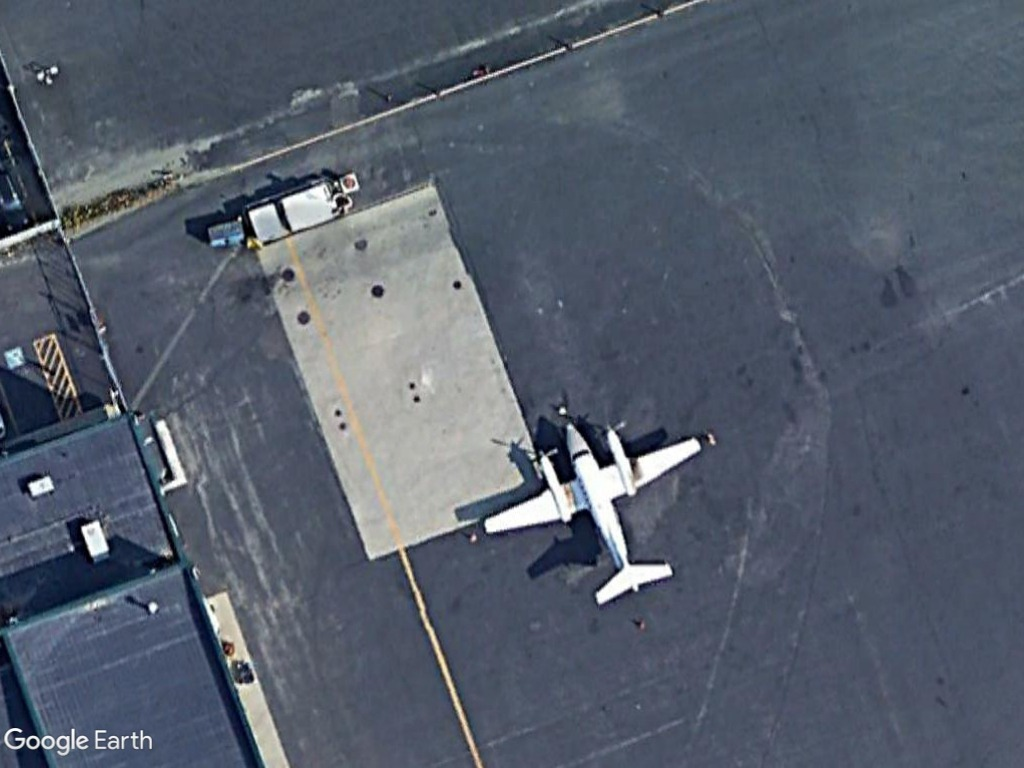propeller: (476, 413, 711, 609)
